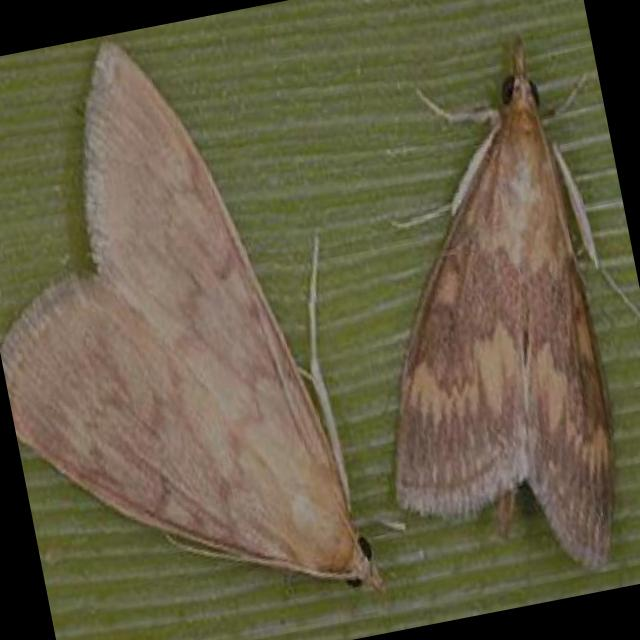stem-borer: (0, 1, 406, 640), (310, 17, 640, 613)
